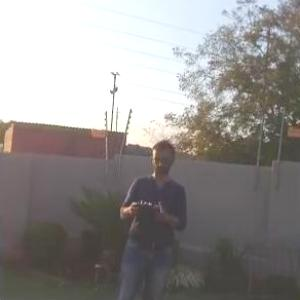follow: (102, 131, 190, 299)
